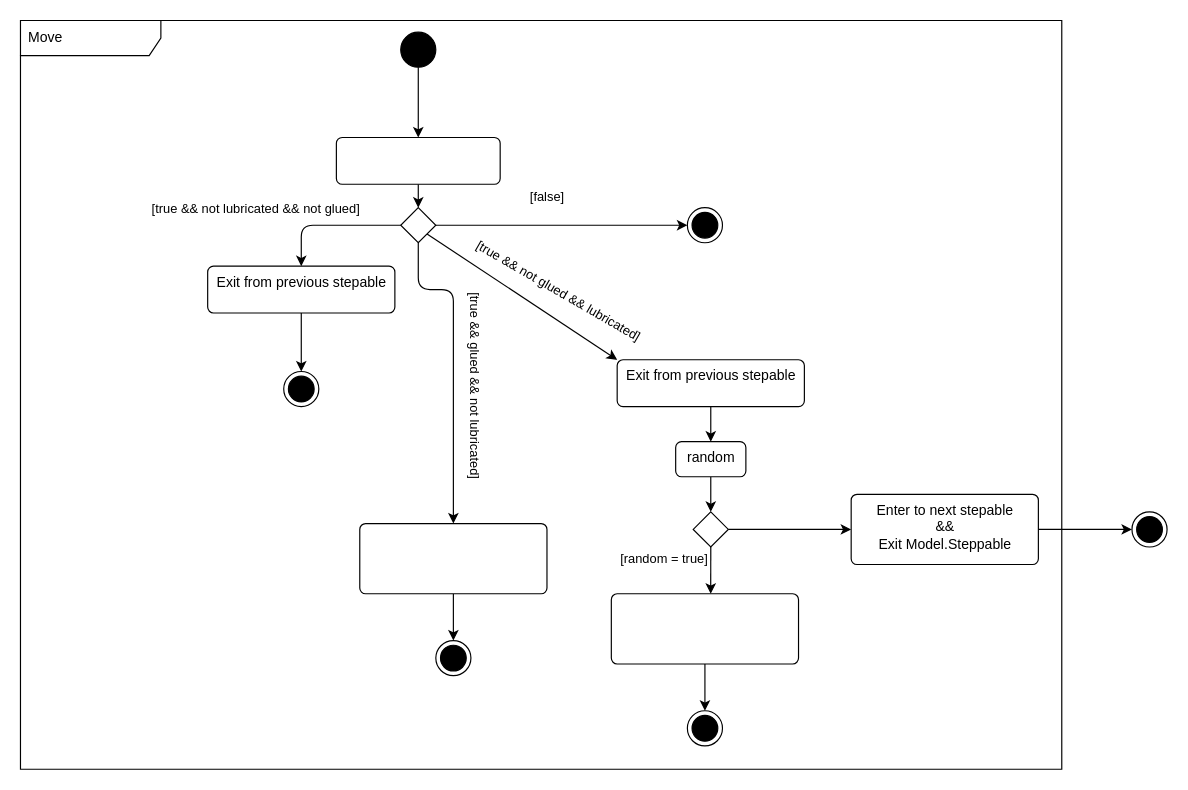
Some shapes in this 1188 by 790 pixel diagram are drawn without their labels. Here are the shapes that lost their labels. From the top down, the box of each, then its label:
(335, 136, 500, 184): Enter to Model.Steppable
(359, 522, 547, 594): Exit from previous stepable && stuck = true
(610, 593, 799, 664): Enter to previous stepable && Exit Model.Steppable
